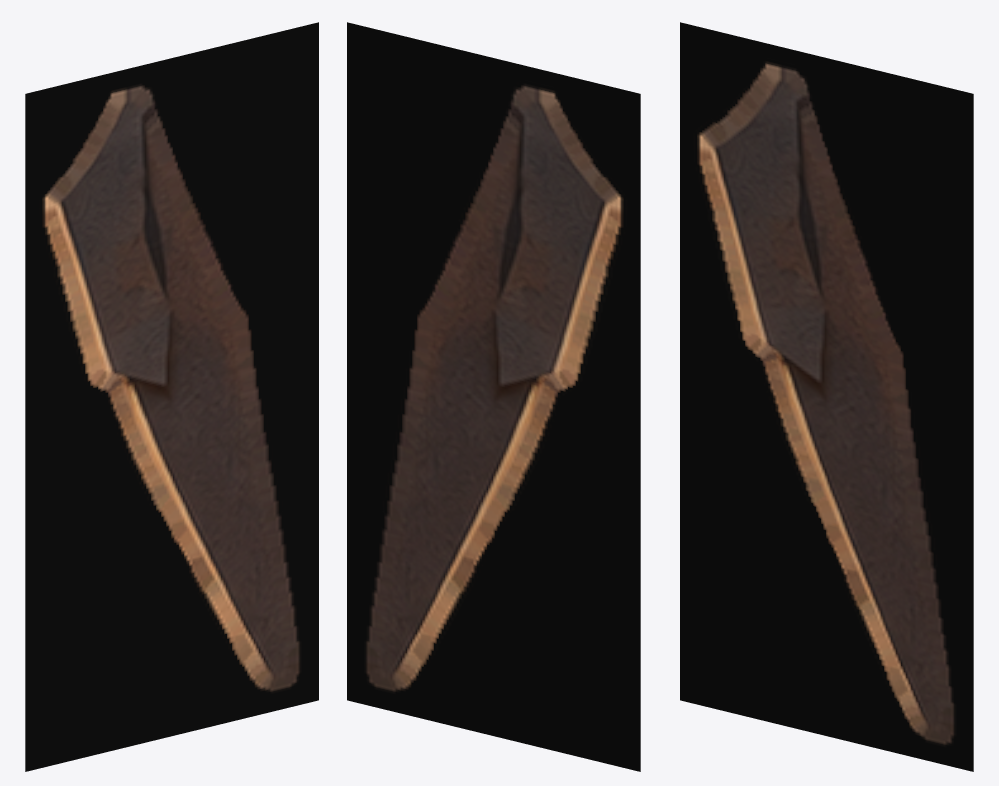
Rendered from Variant08Lower.glb.
The picture shows the model from 3 angles, left to right: view 1: azimuth 30°, elevation 25°; view 2: azimuth 150°, elevation 25°; view 3: azimuth 330°, elevation 25°; orthographic projection.
Parts seen in each view (by area): view 1: PaperVolume; view 2: PaperVolume; view 3: PaperVolume.
Part boxes in pixels (<box>): PaperVolume: <box>25,22,318,771</box>; PaperVolume: <box>347,22,640,771</box>; PaperVolume: <box>680,22,973,771</box>.
Size of the model in its own units: 1.2 by 2.65 by 0.08.
Materials: 3 (2 with a texture image).
